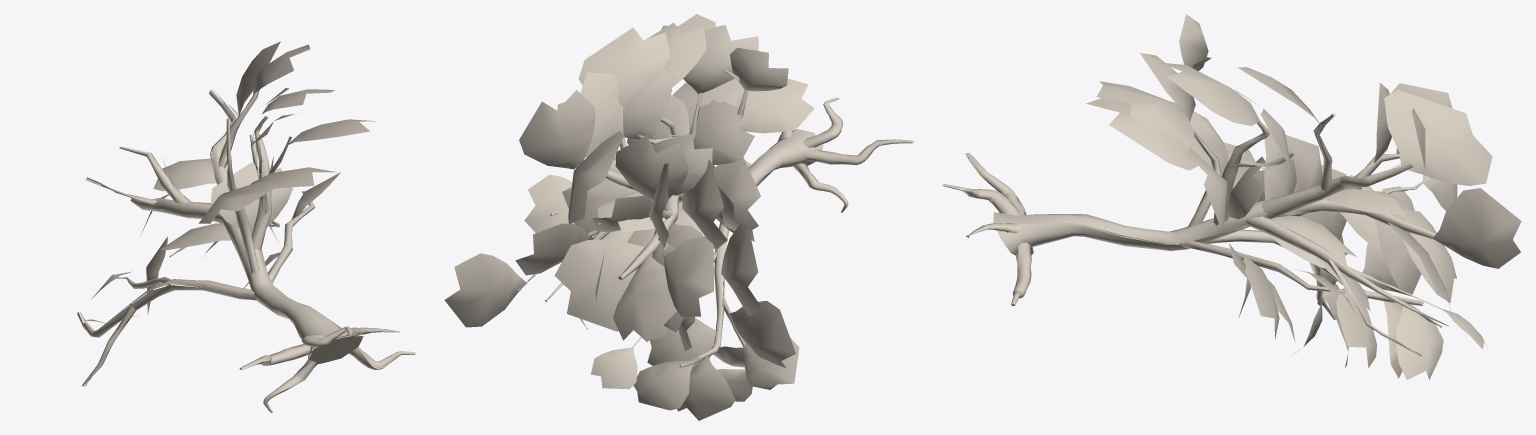
The model's file is tree_2_cand01.glb.
3 renders of one model, left to right at view 1: azimuth 30°, elevation 25°; view 2: azimuth 150°, elevation 25°; view 3: azimuth 270°, elevation 25°, orthographic. The views are drawn at different scales.
Visible parts, largest first — view 1: world; view 2: world; view 3: world.
Boxes of the visible parts, x1,y1,x2,y2 form: world: (77, 41, 415, 412); world: (444, 14, 913, 420); world: (942, 14, 1521, 379).
Size of the model in its own units: 1.42 by 1.47 by 2.02.
